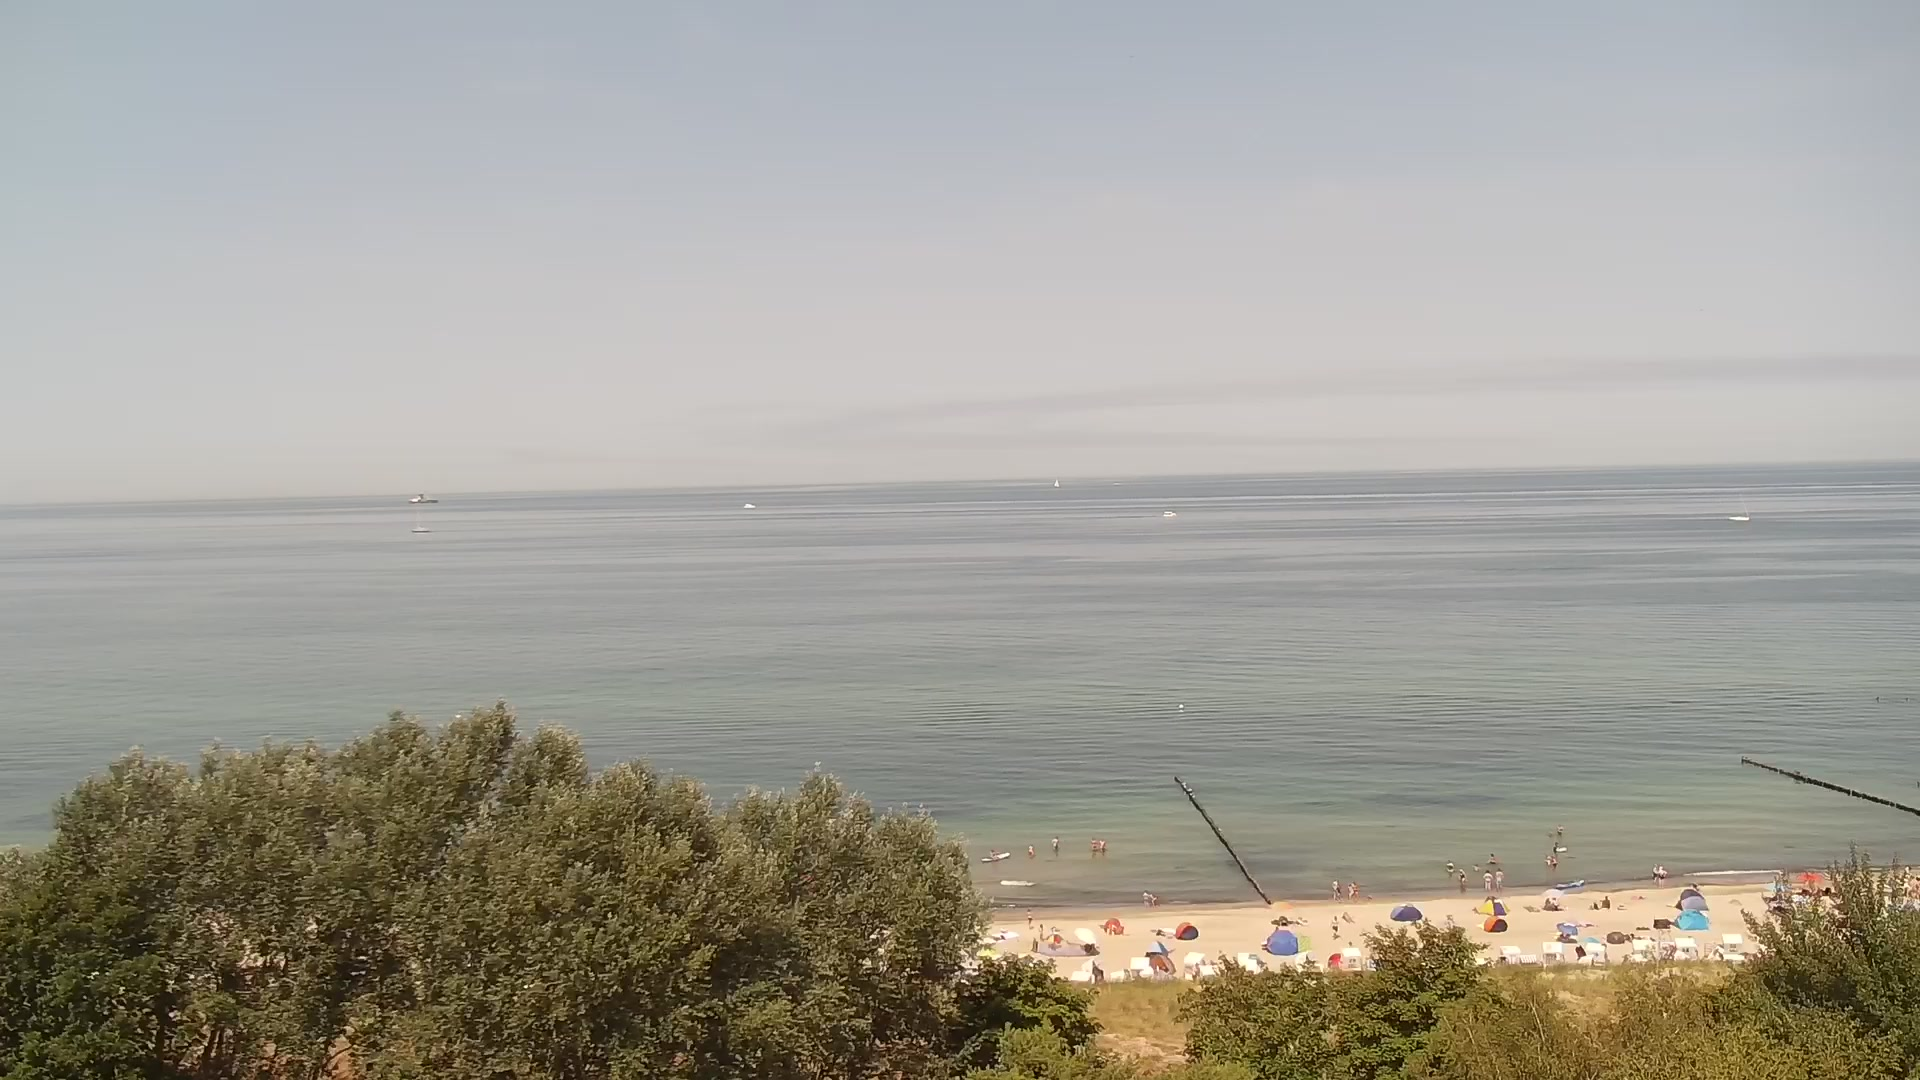human: (1655, 864, 1667, 887), (1346, 879, 1360, 900), (1494, 867, 1504, 890), (1482, 869, 1493, 891), (1331, 915, 1340, 939), (1330, 877, 1340, 899), (1651, 862, 1660, 885), (1457, 867, 1468, 885), (1544, 853, 1558, 868), (1050, 836, 1061, 850), (1141, 889, 1150, 907), (1025, 908, 1033, 929), (1601, 894, 1611, 908), (1089, 837, 1098, 853), (1037, 922, 1045, 940), (1216, 948, 1228, 960), (1098, 838, 1107, 853), (1486, 852, 1497, 864), (1555, 822, 1564, 835), (1027, 843, 1035, 856), (1446, 859, 1454, 872), (1471, 863, 1482, 872), (1553, 841, 1561, 853)
sea: (1726, 490, 1749, 520), (412, 510, 431, 533), (408, 492, 440, 504), (980, 850, 1010, 862), (742, 503, 757, 510), (1052, 478, 1061, 488), (1163, 511, 1177, 518)
